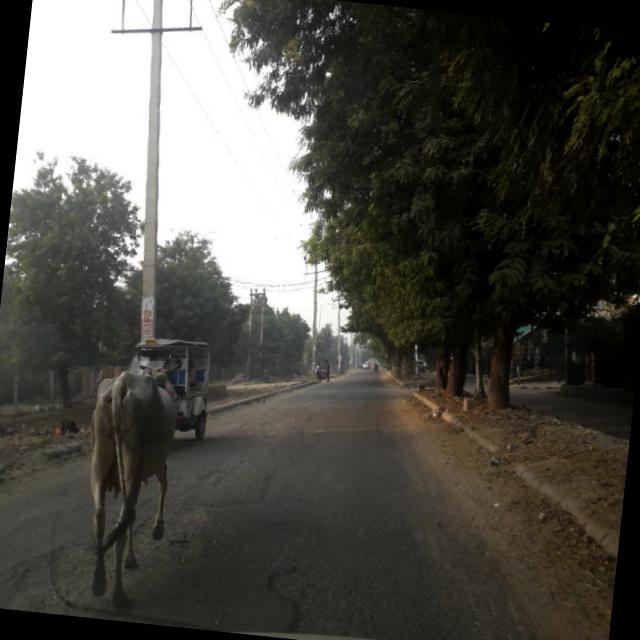crack: (253, 552, 318, 632)
